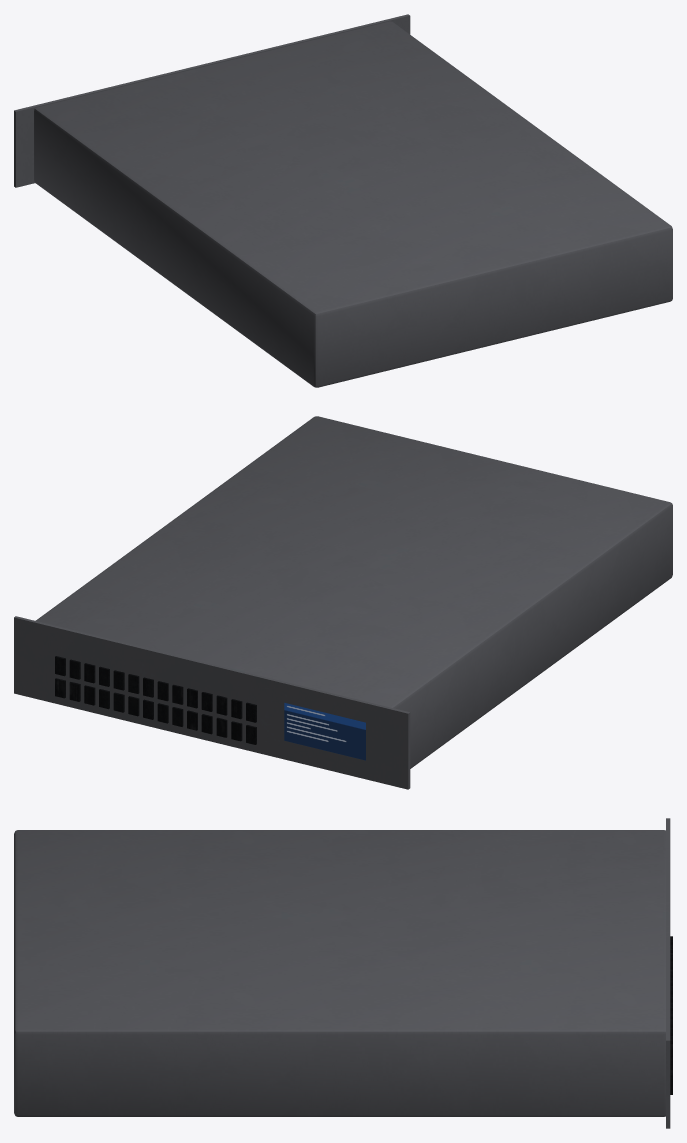
The model's file is media_server_small.gltf.
The picture shows the model from 3 angles, top to bottom: view 1: azimuth 30°, elevation 25°; view 2: azimuth 150°, elevation 25°; view 3: azimuth 270°, elevation 25°; orthographic projection. The views are drawn at different scales.
Parts seen in each view (by area): view 1: media_server_small; view 2: media_server_small; view 3: media_server_small.
Boxes of the visible parts, x1,y1,x2,y2 form: media_server_small: [14, 14, 672, 387]; media_server_small: [14, 416, 672, 789]; media_server_small: [14, 818, 672, 1128].
Size of the model in its own units: 0.483 by 0.089 by 0.6045.
3 materials, 3 textured.
